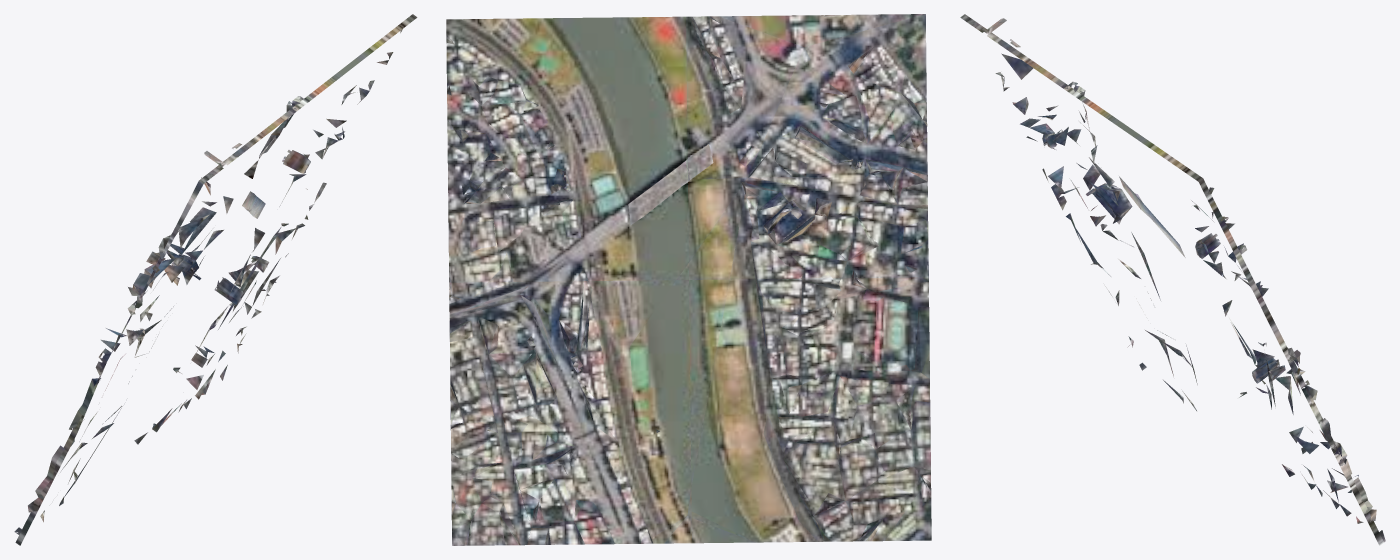
3 renders of one model, left to right at view 1: azimuth 30°, elevation 25°; view 2: azimuth 150°, elevation 25°; view 3: azimuth 270°, elevation 25°, orthographic. The views are drawn at different scales.
Bounding box in the file's own units: 1224 × 1132 × 1035.
1 material, 1 textured.
